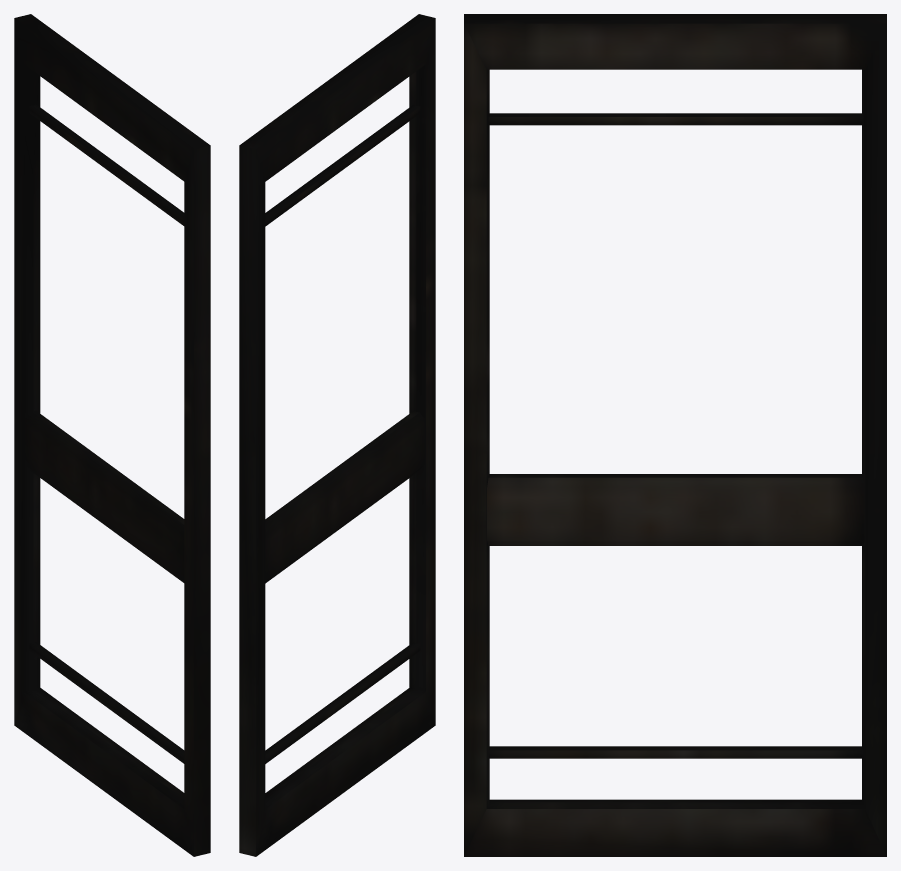
Rendered from porte_grille.glb.
3 renders of one model, left to right at view 1: azimuth 30°, elevation 25°; view 2: azimuth 150°, elevation 25°; view 3: azimuth 270°, elevation 25°, orthographic. The views are drawn at different scales.
Parts seen in each view (by area): view 1: Scene_Cycles_Baked.001; view 2: Scene_Cycles_Baked.001; view 3: Scene_Cycles_Baked.001.
Part boxes in pixels (x1=…): Scene_Cycles_Baked.001: x1=14, y1=14, x2=210, y2=856; Scene_Cycles_Baked.001: x1=239, y1=14, x2=435, y2=856; Scene_Cycles_Baked.001: x1=464, y1=14, x2=886, y2=856.
Bounding box in the file's own units: 0.06 × 2.43 × 1.12.
Materials: 1 (1 with a texture image).
